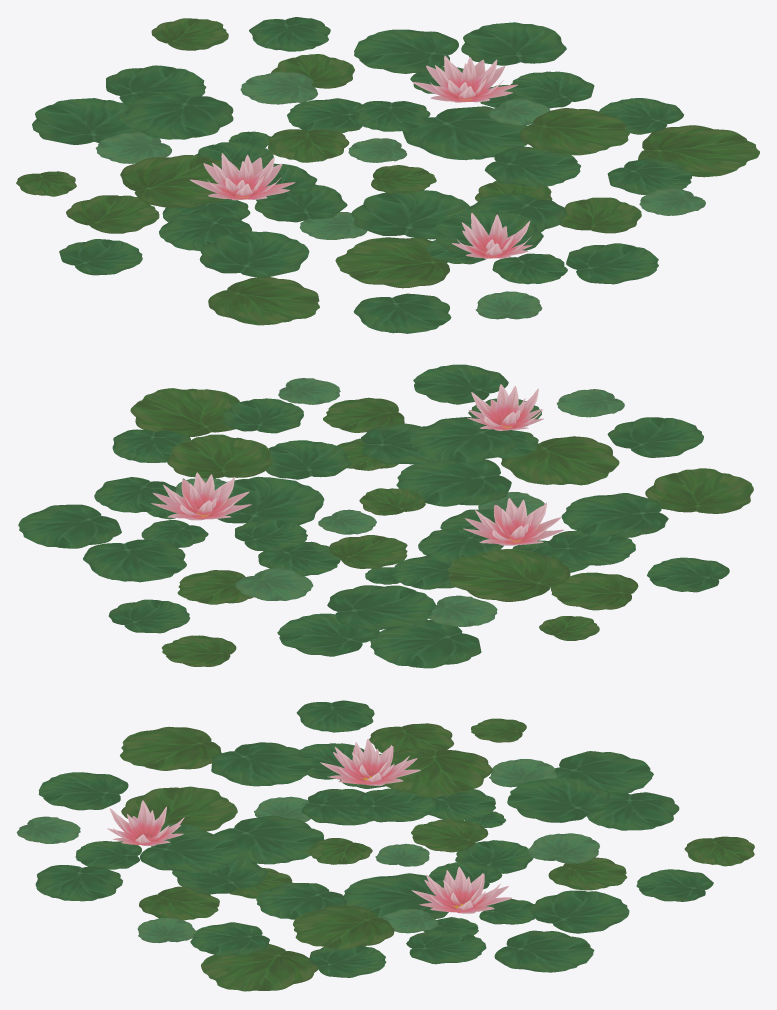
File: SM_EastLands_WaterLily_01.fbx
3 views of the same model, one above another, from view 1: azimuth 30°, elevation 25°; view 2: azimuth 150°, elevation 25°; view 3: azimuth 270°, elevation 25° (orthographic). The views are drawn at different scales.
Visible parts, largest first — view 1: SM_EastLands_WaterLily_01_LOD0; view 2: SM_EastLands_WaterLily_01_LOD0; view 3: SM_EastLands_WaterLily_01_LOD0.
Part boxes in pixels (x1=…): SM_EastLands_WaterLily_01_LOD0: x1=16, y1=17, x2=759, y2=333; SM_EastLands_WaterLily_01_LOD0: x1=18, y1=364, x2=753, y2=668; SM_EastLands_WaterLily_01_LOD0: x1=16, y1=700, x2=754, y2=991.
Bounding box in the file's own units: 280 × 16.52 × 297.
